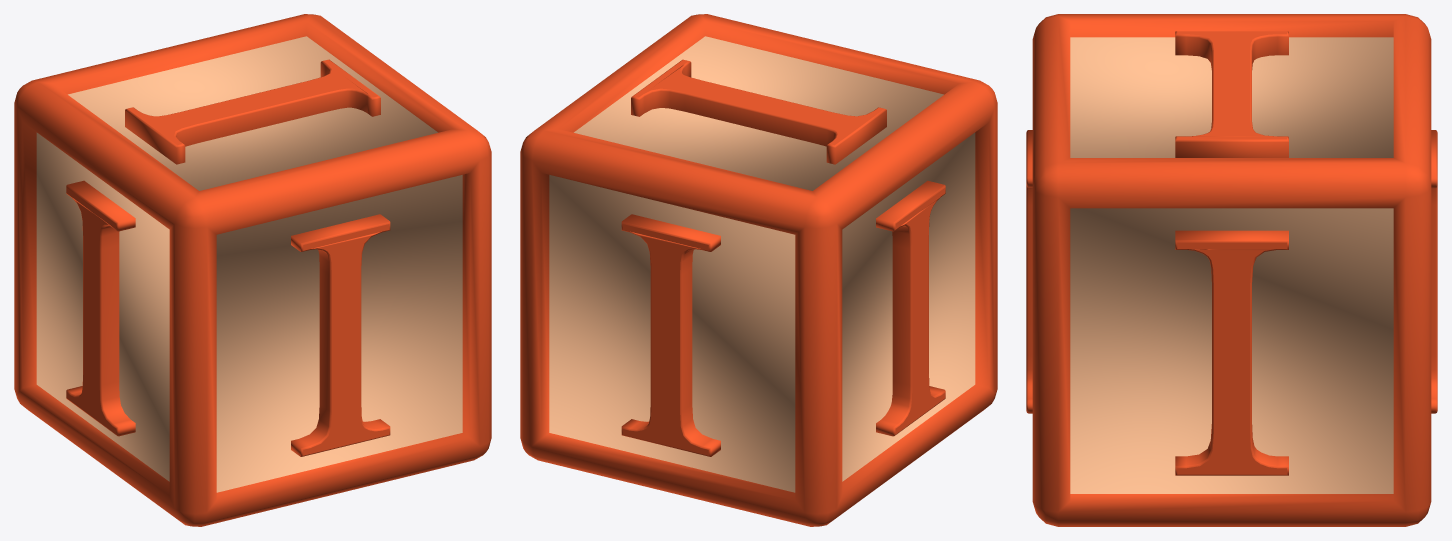
File: CubeI.fbx
3 views of the same model, side by side, from view 1: azimuth 30°, elevation 25°; view 2: azimuth 150°, elevation 25°; view 3: azimuth 270°, elevation 25° (orthographic). The views are drawn at different scales.
Parts seen in each view (by area): view 1: Msh_CubeI; view 2: Msh_CubeI; view 3: Msh_CubeI.
Part boxes in pixels (x1,y1,x2,y2): Msh_CubeI: [14, 14, 491, 526]; Msh_CubeI: [520, 14, 997, 526]; Msh_CubeI: [1026, 14, 1437, 526].
Bounding box in the file's own units: 103 × 103 × 103.
